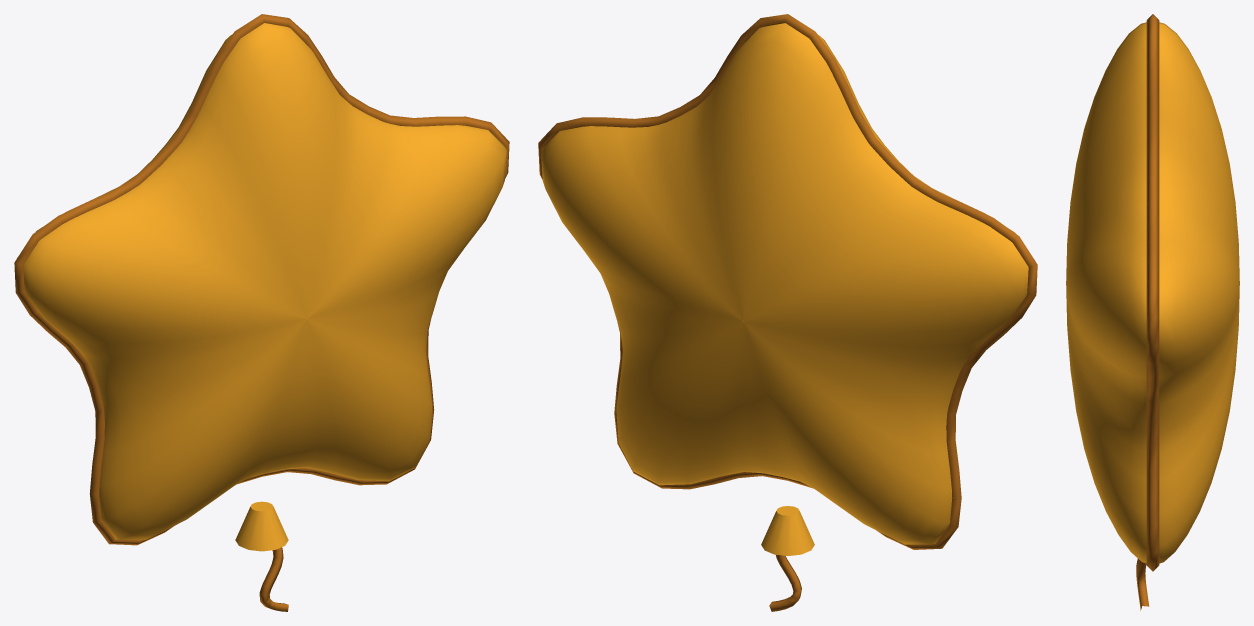
The model's file is balloon-star.glb.
The picture shows the model from 3 angles, left to right: view 1: azimuth 30°, elevation 25°; view 2: azimuth 150°, elevation 25°; view 3: azimuth 270°, elevation 25°; orthographic projection. The views are drawn at different scales.
Visible parts, largest first — view 1: balloon-star; view 2: balloon-star; view 3: balloon-star.
Part boxes in pixels (bbox=[...]): balloon-star: bbox=[14, 14, 509, 611]; balloon-star: bbox=[538, 14, 1037, 611]; balloon-star: bbox=[1066, 14, 1239, 610].
Bounding box in the file's own units: 0.9853 × 1.14 × 0.306.
